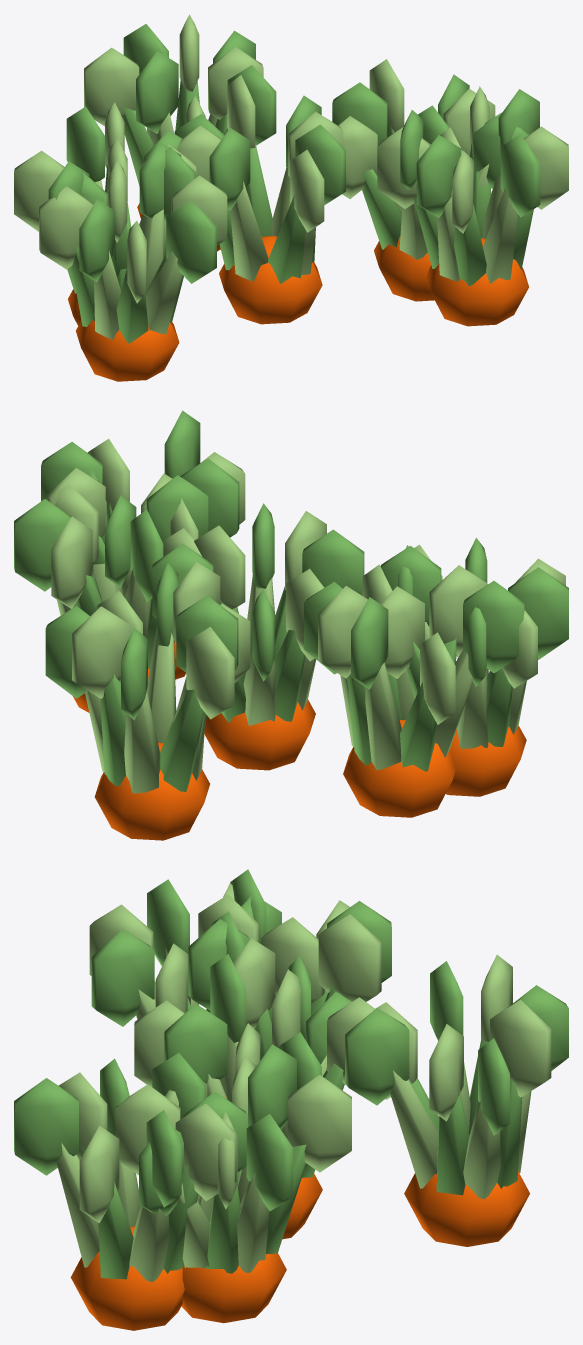
The model's file is carrot_patch_v2.glb.
3 renders of one model, top to bottom at view 1: azimuth 30°, elevation 25°; view 2: azimuth 150°, elevation 25°; view 3: azimuth 270°, elevation 25°, orthographic. The views are drawn at different scales.
Visible parts, largest first — view 1: carrot_3, carrot_2, carrot_1; view 2: carrot_3, carrot_2, carrot_1; view 3: carrot_3, carrot_2, carrot_1.
Part boxes in pixels (x1,y1,x2,y2): carrot_3: [39, 14, 568, 381]; carrot_2: [14, 59, 529, 325]; carrot_1: [174, 75, 345, 324]; carrot_3: [41, 410, 568, 840]; carrot_2: [14, 468, 524, 817]; carrot_1: [152, 503, 364, 770]; carrot_3: [14, 879, 568, 1330]; carrot_2: [115, 869, 391, 1323]; carrot_1: [134, 954, 374, 1239].
Bounding box in the file's own units: 1.42 × 0.6334 × 1.23.
